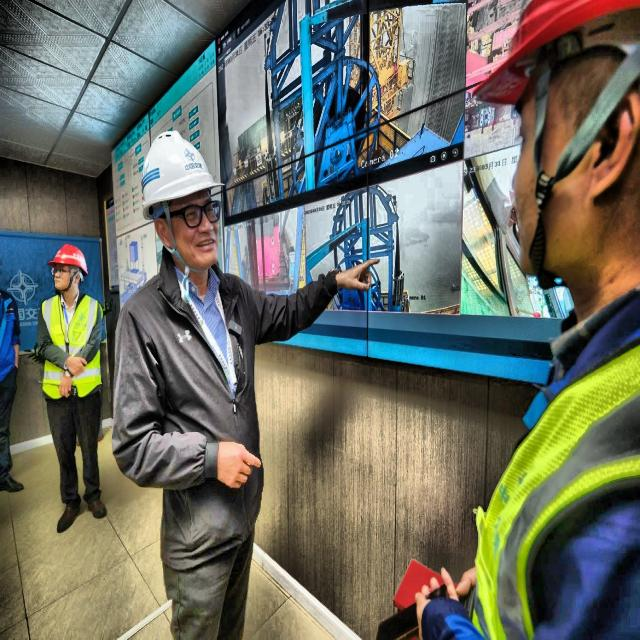safety_helmet: (469, 3, 639, 196), (138, 128, 226, 224), (38, 224, 92, 278)
safety_jacket: (468, 342, 638, 638), (38, 291, 106, 404)
